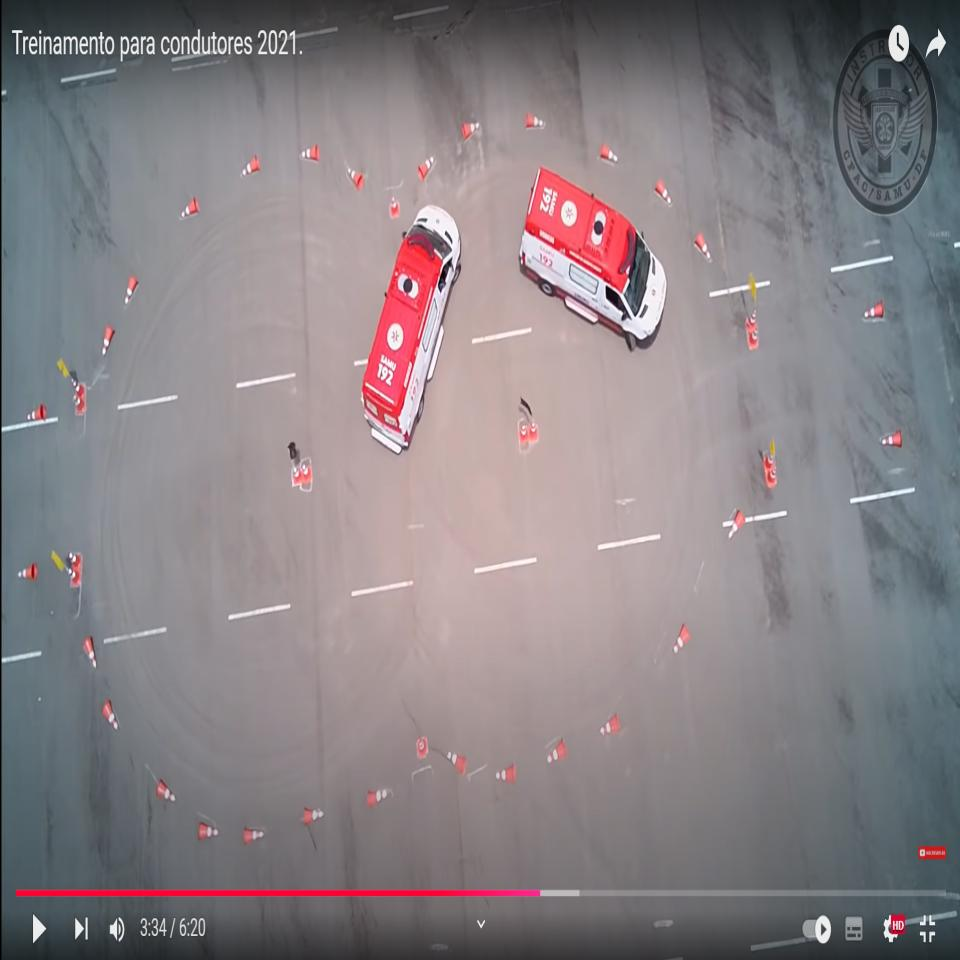bombeiro: (517, 165, 669, 352), (362, 200, 463, 457)
